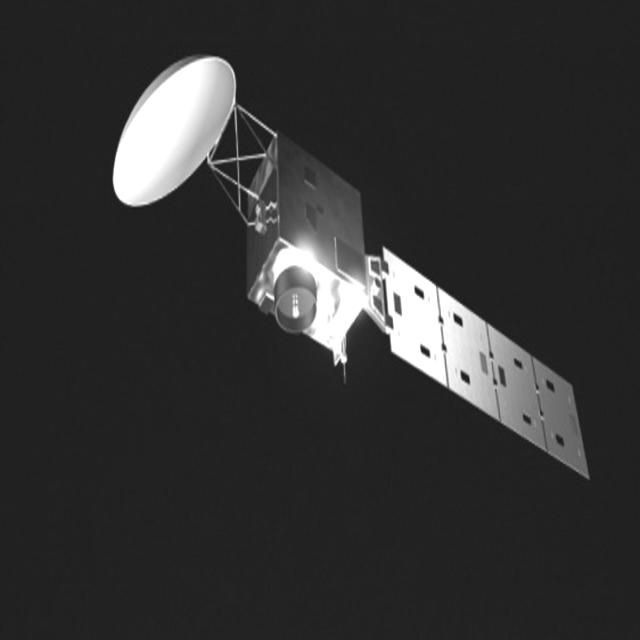satellite: (101, 42, 595, 507)
